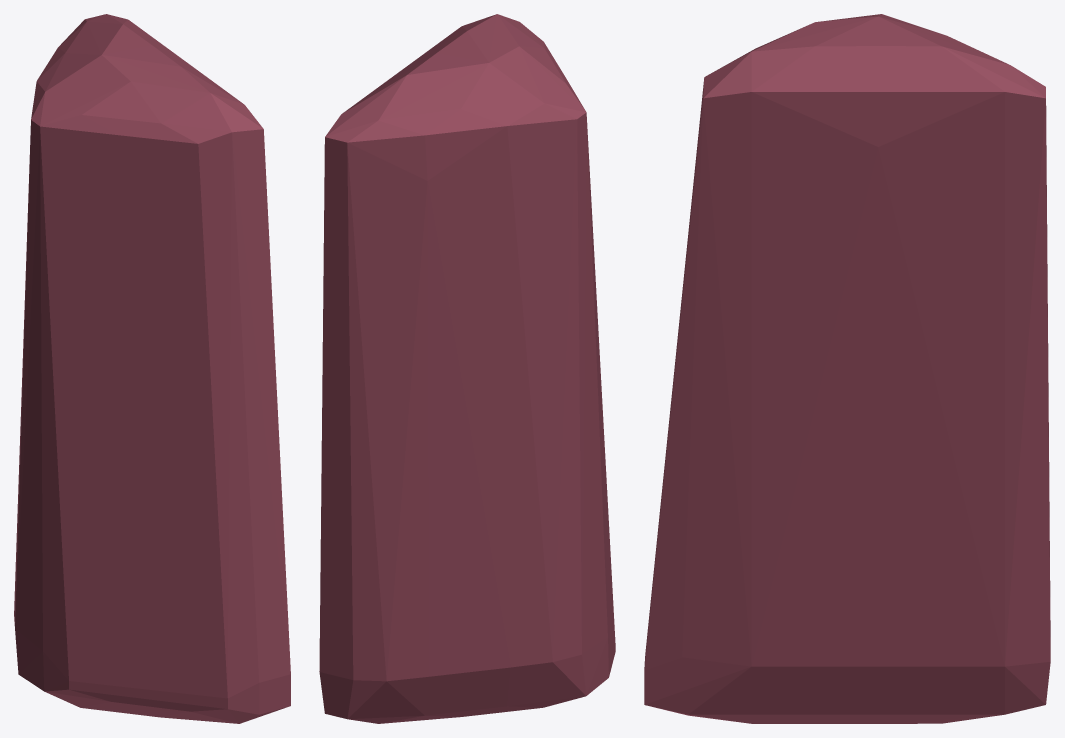
The model's file is left-hip-yaw-0_part_13.obj.
The picture shows the model from 3 angles, left to right: view 1: azimuth 30°, elevation 25°; view 2: azimuth 150°, elevation 25°; view 3: azimuth 270°, elevation 25°; orthographic projection. The views are drawn at different scales.
Size of the model in its own units: 0.00677 by 0.0222 by 0.012.
